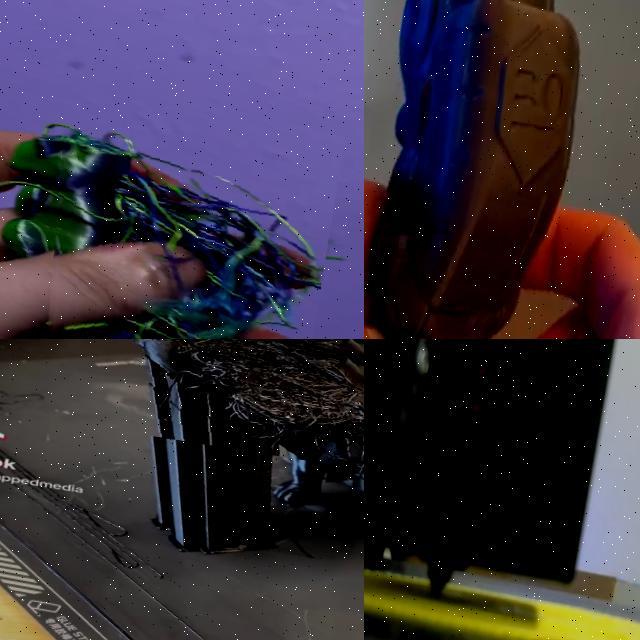spaghetti: (20, 66, 349, 339), (118, 339, 364, 494)
